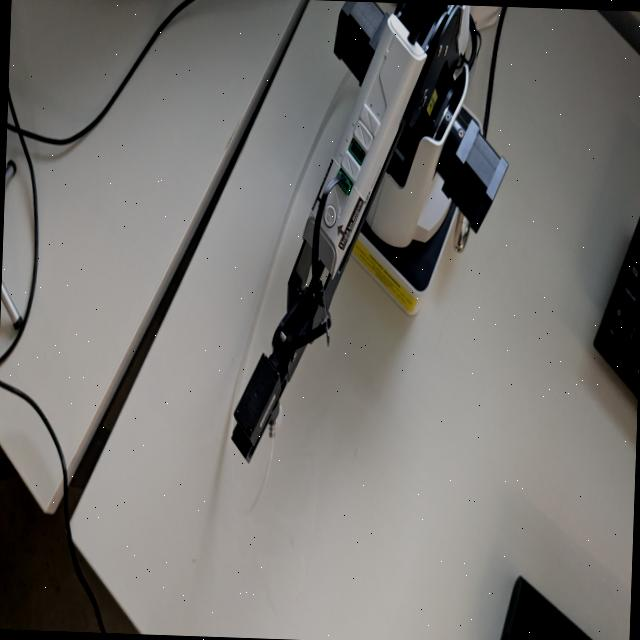Robot-end-effector-HF8z: (226, 349, 288, 477)
